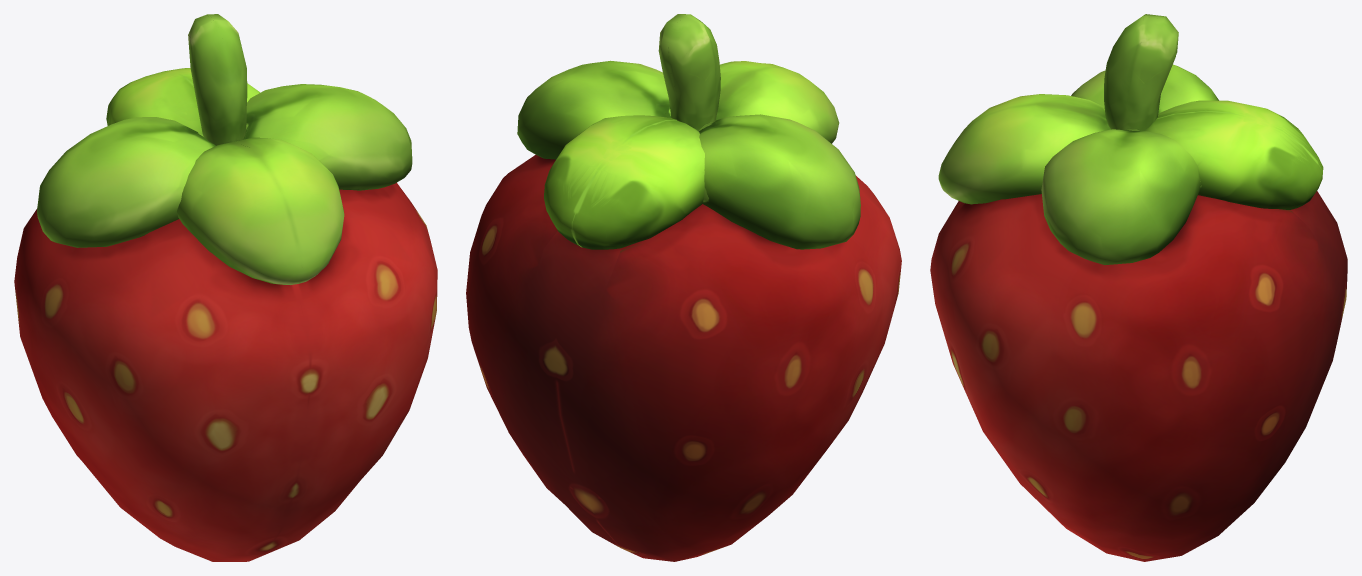
Rendered from Berry.fbx.
The picture shows the model from 3 angles, left to right: view 1: azimuth 30°, elevation 25°; view 2: azimuth 150°, elevation 25°; view 3: azimuth 270°, elevation 25°; orthographic projection. The views are drawn at different scales.
Visible parts, largest first — view 1: straw1; view 2: straw1; view 3: straw1.
Boxes of the visible parts, box(x1,y1,x2,y2) form: straw1: box(14, 14, 437, 561); straw1: box(466, 14, 901, 561); straw1: box(930, 14, 1347, 561).
Bounding box in the file's own units: 150 × 211 × 151.
Materials: 1 (1 with a texture image).
